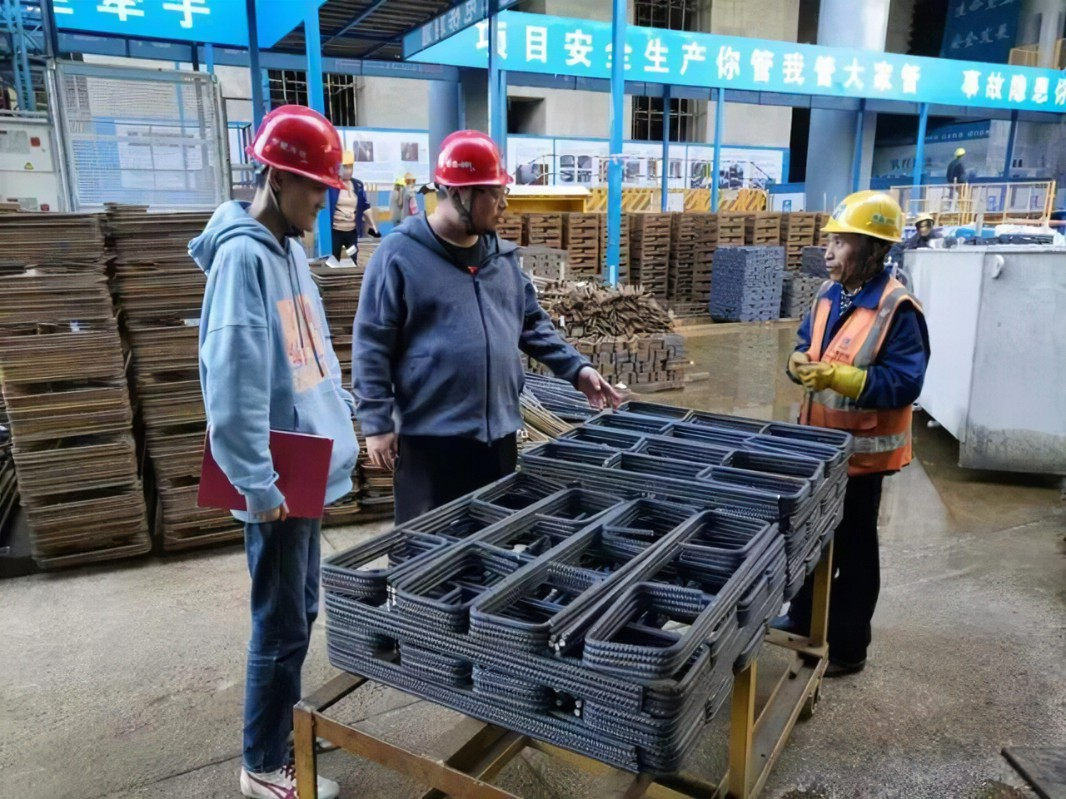safetyhat: (180, 83, 362, 758), (357, 110, 590, 511), (754, 169, 937, 529)
